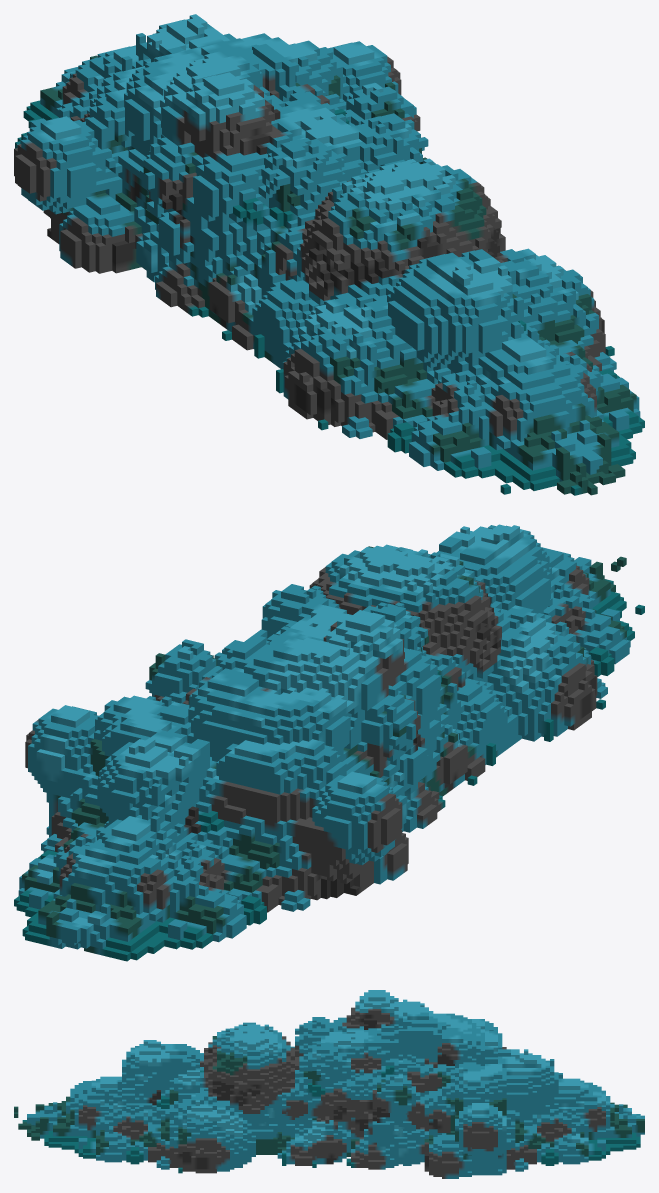
The model's file is mossrocklong.fbx.
The picture shows the model from 3 angles, top to bottom: view 1: azimuth 30°, elevation 25°; view 2: azimuth 150°, elevation 25°; view 3: azimuth 270°, elevation 25°; orthographic projection. The views are drawn at different scales.
Parts seen in each view (by area): view 1: snowrock2_3; view 2: snowrock2_3; view 3: snowrock2_3.
Boxes of the visible parts, x1,y1,x2,y2 form: snowrock2_3: [14, 14, 644, 495]; snowrock2_3: [14, 524, 644, 961]; snowrock2_3: [14, 990, 644, 1178].
Bounding box in the file's own units: 58 × 30 × 146.
Materials: 1 (1 with a texture image).
